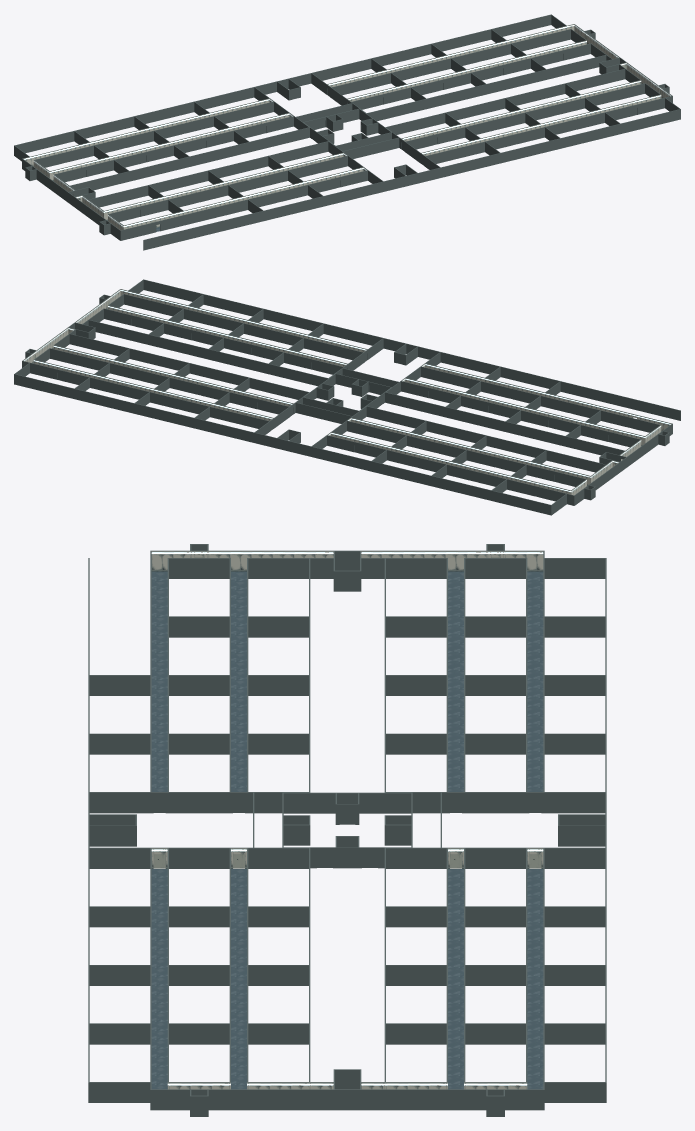
Rendered from source_geometry.glb.
3 renders of one model, top to bottom at view 1: azimuth 30°, elevation 25°; view 2: azimuth 150°, elevation 25°; view 3: azimuth 270°, elevation 25°, orthographic. The views are drawn at different scales.
Visible parts, largest first — view 1: Shell_W001, Shell_W242, Shell_W140, Shell_W137, Shell_W108, Shell_W105, Shell_W062, Shell_W017, Shell_W070, Shell_W066, Shell_W065, Shell_W071 (+21 smaller); view 2: Shell_W242, Shell_W001, Shell_W108, Shell_W105, Shell_W140, Shell_W137, Shell_W062, Shell_W178, Shell_W174, Shell_W173, Shell_W179, Shell_W035 (+20 smaller); view 3: Shell_W063, Floor_1_0, Floor_1_1, Floor_11_0, Floor_11_1, Floor_3_0, Floor_3_1, Floor_9_0, Floor_9_1, Shell_W012, Shell_W229, Shell_W236 (+56 smaller).
Part boxes in pixels (x1=…): Shell_W001: x1=143, y1=109, x2=680, y2=250; Shell_W242: x1=14, y1=14, x2=551, y2=155; Shell_W140: x1=365, y1=54, x2=606, y2=121; Shell_W137: x1=69, y1=127, x2=309, y2=190; Shell_W108: x1=384, y1=68, x2=625, y2=134; Shell_W105: x1=88, y1=141, x2=328, y2=207; Shell_W062: x1=36, y1=169, x2=105, y2=224; Shell_W017: x1=160, y1=207, x2=216, y2=231; Shell_W070: x1=437, y1=120, x2=493, y2=144; Shell_W066: x1=200, y1=178, x2=256, y2=202; Shell_W065: x1=140, y1=193, x2=196, y2=216; Shell_W071: x1=497, y1=105, x2=553, y2=129; Shell_W242: x1=14, y1=374, x2=551, y2=515; Shell_W001: x1=143, y1=279, x2=680, y2=420; Shell_W108: x1=88, y1=319, x2=329, y2=386; Shell_W105: x1=385, y1=392, x2=625, y2=455; Shell_W140: x1=69, y1=333, x2=310, y2=399; Shell_W137: x1=366, y1=406, x2=606, y2=472; Shell_W062: x1=589, y1=434, x2=658, y2=489; Shell_W178: x1=201, y1=385, x2=257, y2=409; Shell_W174: x1=438, y1=443, x2=494, y2=467; Shell_W173: x1=498, y1=458, x2=554, y2=481; Shell_W179: x1=141, y1=370, x2=197, y2=394; Shell_W035: x1=452, y1=374, x2=508, y2=398; Shell_W063: x1=208, y1=1089, x2=486, y2=1110; Floor_1_0: x1=151, y1=571, x2=167, y2=791; Floor_1_1: x1=151, y1=869, x2=167, y2=1089; Floor_11_0: x1=527, y1=571, x2=543, y2=791; Floor_11_1: x1=527, y1=869, x2=543, y2=1089; Floor_3_0: x1=231, y1=571, x2=246, y2=791; Floor_3_1: x1=231, y1=869, x2=246, y2=1089; Floor_9_0: x1=448, y1=571, x2=463, y2=791; Floor_9_1: x1=448, y1=869, x2=463, y2=1089; Shell_W012: x1=89, y1=1023, x2=150, y2=1044; Shell_W229: x1=544, y1=616, x2=605, y2=637; Shell_W236: x1=544, y1=1023, x2=605, y2=1044.
Bounding box in the file's own units: 196 × 3.4 × 77.8.
4 materials, 3 textured.
